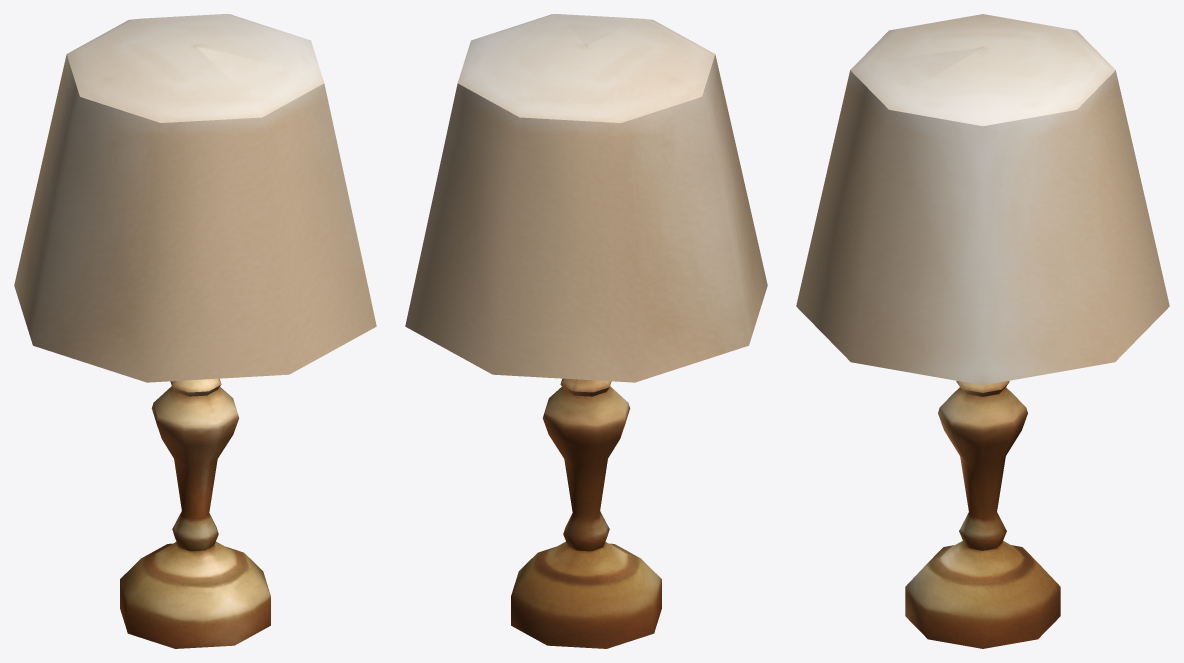
Rendered from PiErSenGongYu_01_taideng_01.FBX.
The picture shows the model from 3 angles, left to right: view 1: azimuth 30°, elevation 25°; view 2: azimuth 150°, elevation 25°; view 3: azimuth 270°, elevation 25°; orthographic projection.
Parts seen in each view (by area): view 1: PiErSenDeGongYu_taideng_01; view 2: PiErSenDeGongYu_taideng_01; view 3: PiErSenDeGongYu_taideng_01.
Boxes of the visible parts, left/top/right/bottom form: PiErSenDeGongYu_taideng_01: left=14, top=14, right=376, bottom=648; PiErSenDeGongYu_taideng_01: left=405, top=14, right=767, bottom=648; PiErSenDeGongYu_taideng_01: left=796, top=14, right=1169, bottom=648.
Bounding box in the file's own units: 168 × 281 × 168.
